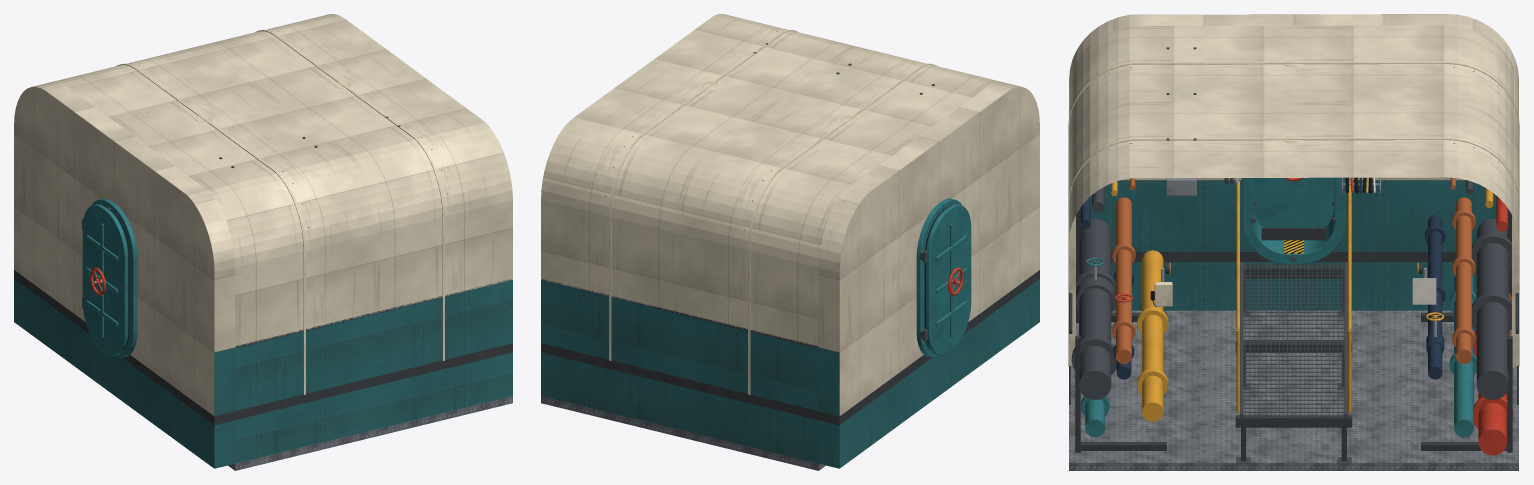
Rendered from Passageway.glb.
The picture shows the model from 3 angles, left to right: view 1: azimuth 30°, elevation 25°; view 2: azimuth 150°, elevation 25°; view 3: azimuth 270°, elevation 25°; orthographic projection. The views are drawn at different scales.
Visible parts, largest first — view 1: Passageway_Shell_Body, Bulkhead_4_Body, WatertightDoor_Leaf.004, Passageway_Shell_Structure, Passageway_Shell_Floor, WatertightDoor_Body.004; view 2: Passageway_Shell_Body, Bulkhead_4_Body, WatertightDoor_Leaf.004, Passageway_Shell_Structure, Passageway_Shell_Floor, WatertightDoor_Body.004; view 3: Passageway_Shell_Body, Passageway_Shell_Floor, Bulkhead_4_Body, PipeBankA_Body.001, PassageCatwalk_Body.001, PipeBankB_Body.001, Passageway_Shell_Structure, WatertightDoor_Leaf.004, WatertightDoor_Body.004, RoomSign_Engine_Room_Body.001, Sign_Hot_Body.002, Intercom_Body.004.
Boxes of the visible parts, <box> form: Passageway_Shell_Body: <box>52,14,512,463</box>; Bulkhead_4_Body: <box>14,81,235,468</box>; WatertightDoor_Leaf.004: <box>82,204,129,355</box>; Passageway_Shell_Structure: <box>116,29,448,394</box>; Passageway_Shell_Floor: <box>228,396,512,470</box>; WatertightDoor_Body.004: <box>82,198,137,357</box>; Passageway_Shell_Body: <box>541,14,1001,463</box>; Bulkhead_4_Body: <box>818,81,1039,468</box>; WatertightDoor_Leaf.004: <box>924,204,971,355</box>; Passageway_Shell_Structure: <box>605,29,937,394</box>; Passageway_Shell_Floor: <box>541,396,825,470</box>; WatertightDoor_Body.004: <box>916,198,961,357</box>; Passageway_Shell_Body: <box>1069,25,1518,404</box>; Passageway_Shell_Floor: <box>1069,310,1518,470</box>; Bulkhead_4_Body: <box>1069,14,1518,310</box>; PipeBankA_Body.001: <box>1417,197,1513,455</box>; PassageCatwalk_Body.001: <box>1235,180,1352,464</box>; PipeBankB_Body.001: <box>1071,197,1170,452</box>; Passageway_Shell_Structure: <box>1068,44,1519,368</box>; WatertightDoor_Leaf.004: <box>1253,177,1334,227</box>; WatertightDoor_Body.004: <box>1241,177,1346,263</box>; RoomSign_Engine_Room_Body.001: <box>1261,228,1326,240</box>; Sign_Hot_Body.002: <box>1412,278,1436,304</box>; Intercom_Body.004: <box>1150,282,1172,307</box>.
Size of the model in its own units: 4.62 by 3.61 by 5.02.
Materials: 28 (18 with a texture image).
